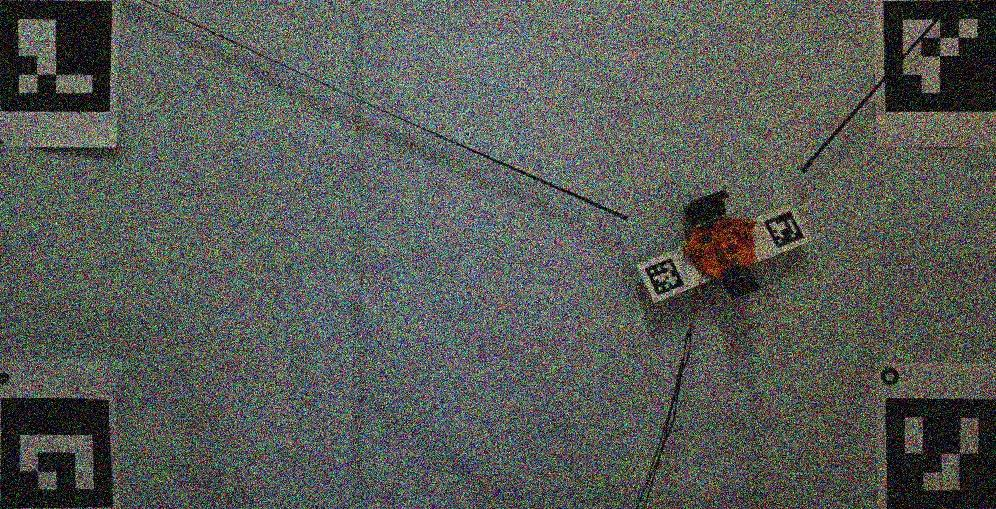robot: (680, 190, 762, 299)
